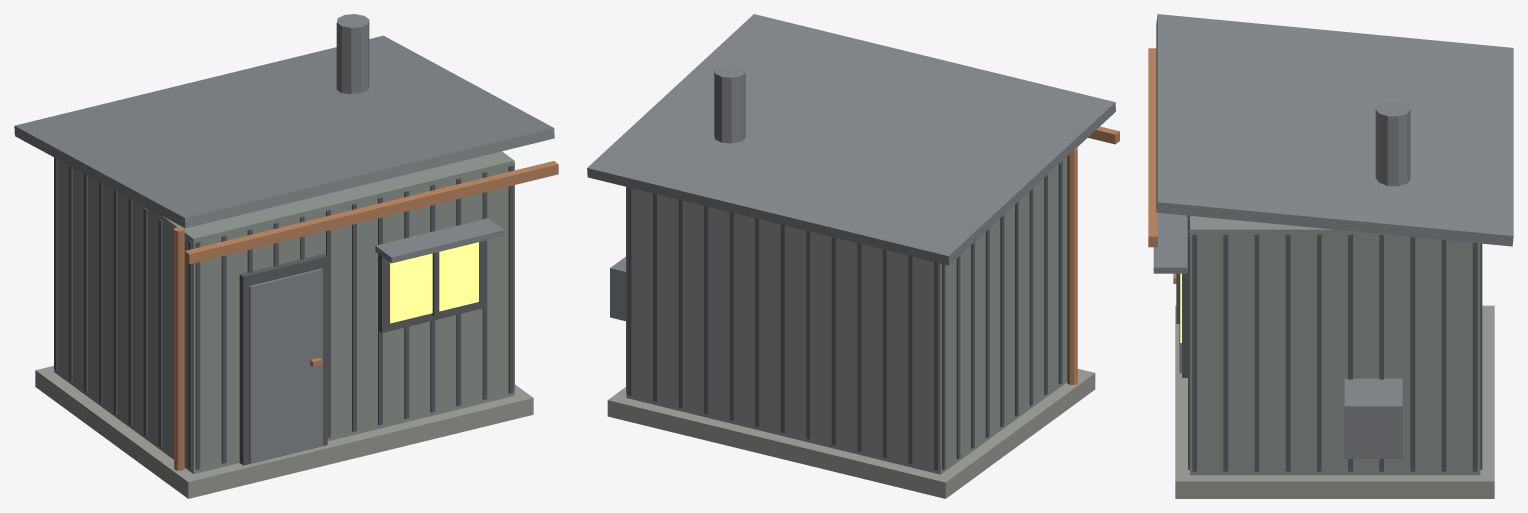
The model's file is shed.glb.
3 views of the same model, side by side, from view 1: azimuth 30°, elevation 25°; view 2: azimuth 150°, elevation 25°; view 3: azimuth 270°, elevation 25° (orthographic). The views are drawn at different scales.
Parts seen in each view (by area): view 1: shed; view 2: shed; view 3: shed.
Part boxes in pixels (x1=…): shed: x1=14, y1=14, x2=558, y2=498; shed: x1=587, y1=14, x2=1119, y2=498; shed: x1=1148, y1=14, x2=1513, y2=498.
Bounding box in the file's own units: 4.97 × 4 × 3.78.
